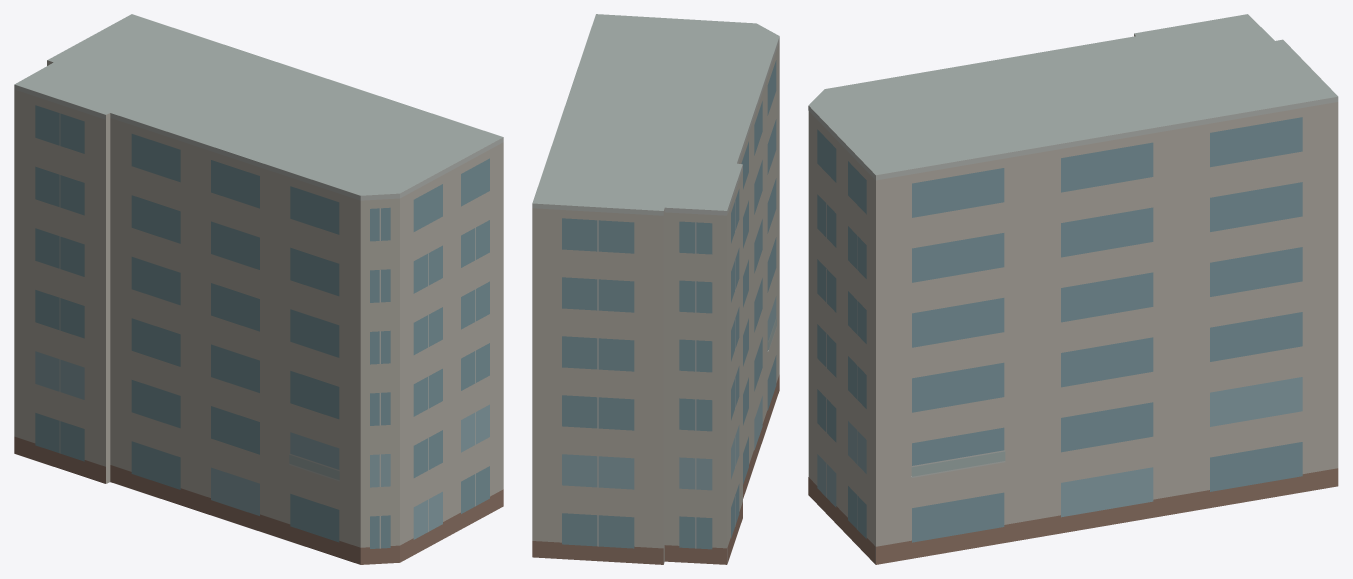
Rendered from survey-upis-32758477.glb.
3 renders of one model, left to right at view 1: azimuth 30°, elevation 25°; view 2: azimuth 150°, elevation 25°; view 3: azimuth 270°, elevation 25°, orthographic. The views are drawn at different scales.
Parts seen in each view (by area): view 1: survey-upis-32758477.tmp; view 2: survey-upis-32758477.tmp; view 3: survey-upis-32758477.tmp.
Part boxes in pixels (bbox=[...]): survey-upis-32758477.tmp: bbox=[14, 14, 503, 564]; survey-upis-32758477.tmp: bbox=[532, 14, 779, 564]; survey-upis-32758477.tmp: bbox=[808, 14, 1338, 564].
Bounding box in the file's own units: 16.25 × 18.3 × 22.57.
